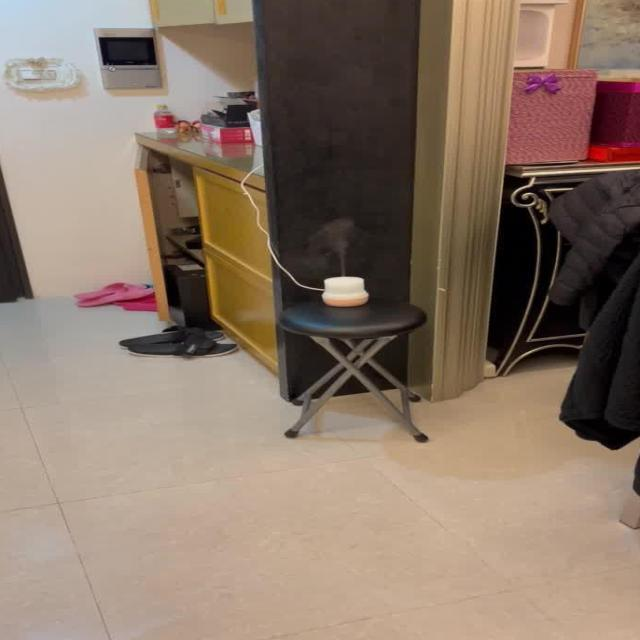fire: (302, 212, 369, 271)
